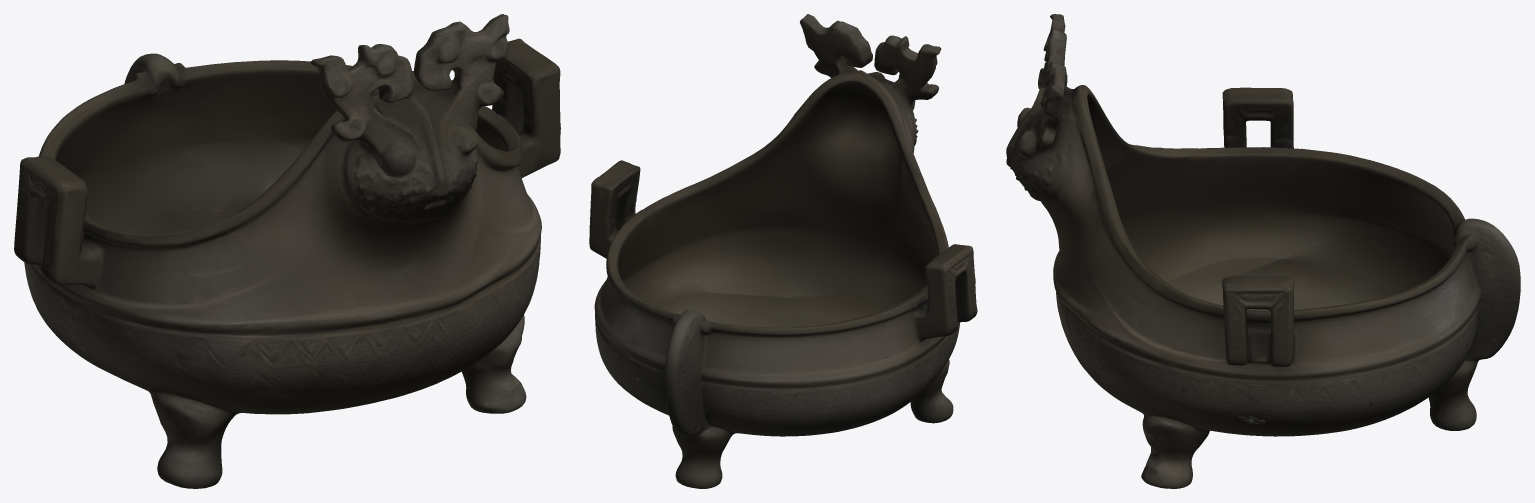
3 views of the same model, side by side, from view 1: azimuth 30°, elevation 25°; view 2: azimuth 150°, elevation 25°; view 3: azimuth 270°, elevation 25° (orthographic). The views are drawn at different scales.
Parts seen in each view (by area): view 1: node_0; view 2: node_0; view 3: node_0.
Boxes of the visible parts, x1,y1,x2,y2 form: node_0: (14,14,560,488); node_0: (589,14,977,488); node_0: (1006,14,1520,488).
Size of the model in its own units: 0.9448 by 0.8095 by 1.01.
1 material, 1 textured.
